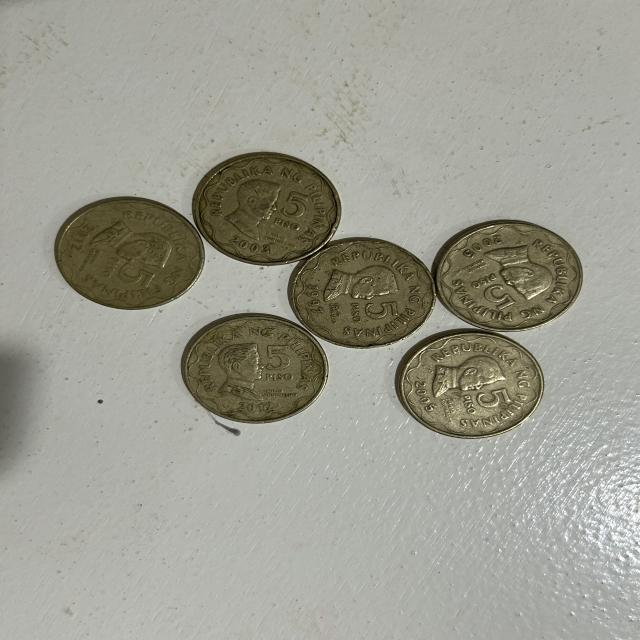5_Old_Front: (456, 272, 522, 322), (97, 255, 164, 294), (263, 340, 302, 389), (463, 392, 524, 420), (341, 300, 404, 324), (266, 186, 301, 228)
